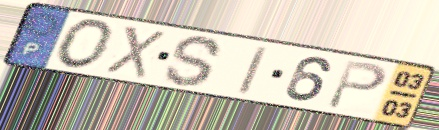6: (283, 55, 334, 104)
I: (234, 44, 272, 98)
O: (53, 16, 118, 71)
P: (324, 58, 390, 112)
S: (162, 34, 226, 89)
X: (102, 23, 168, 81)
